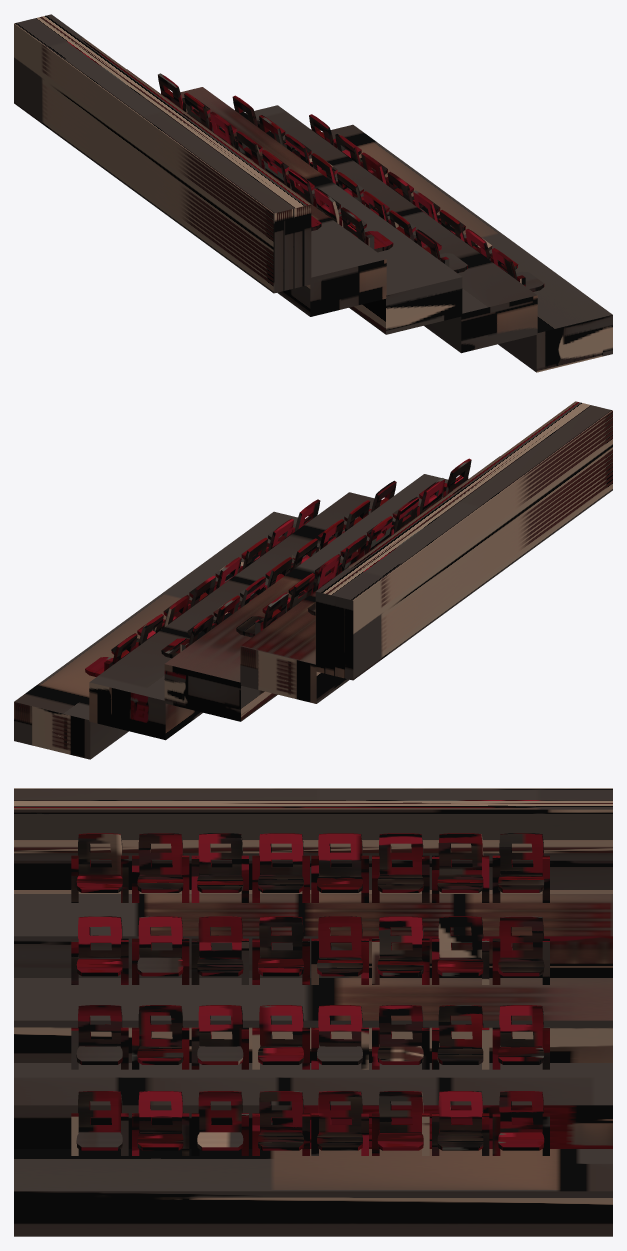
The model's file is seating.dae.
3 views of the same model, one above another, from view 1: azimuth 30°, elevation 25°; view 2: azimuth 150°, elevation 25°; view 3: azimuth 270°, elevation 25° (orthographic). The views are drawn at different scales.
Parts seen in each view (by area): view 1: floors_003; view 2: floors_003; view 3: floors_003.
Boxes of the visible parts, x1,y1,x2,y2 form: floors_003: [14, 14, 612, 372]; floors_003: [14, 401, 612, 759]; floors_003: [14, 788, 612, 1236].
Bounding box in the file's own units: 18.09 × 24 × 11.37.
Materials: 1 (1 with a texture image).
